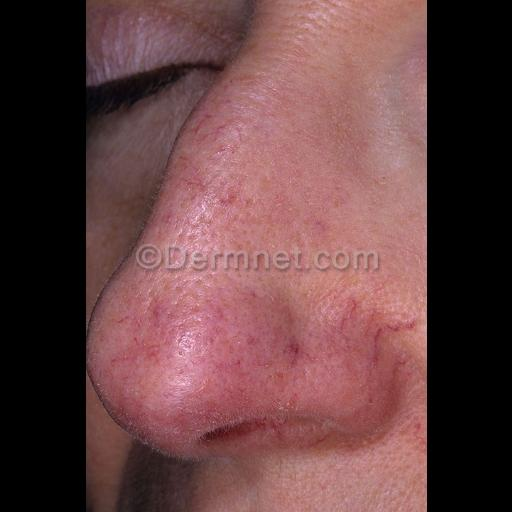Skin_Lesion: (154, 352, 216, 404), (380, 360, 410, 416), (192, 190, 264, 208), (216, 271, 238, 329), (246, 270, 268, 326), (340, 284, 362, 322), (283, 328, 303, 368), (367, 329, 383, 371), (412, 415, 426, 453), (142, 288, 160, 314), (400, 311, 416, 339), (234, 353, 250, 373)
